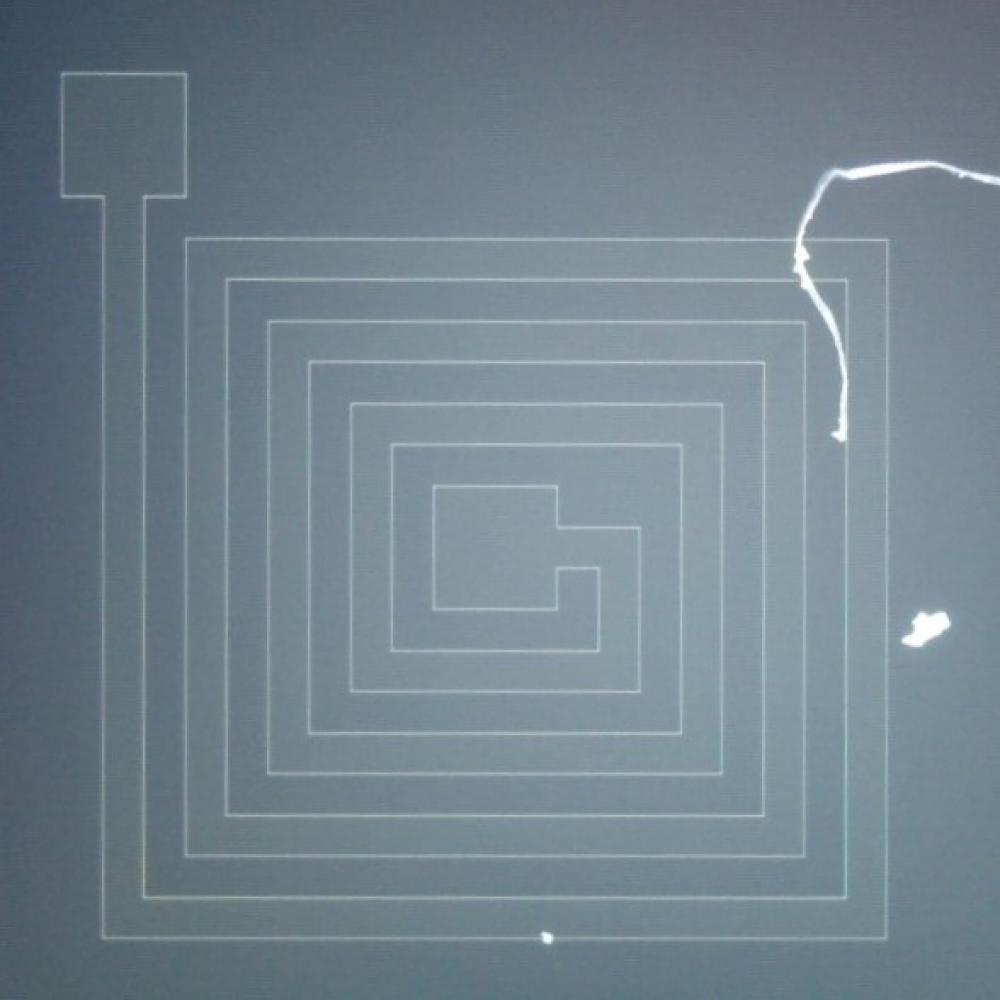Bdot: (912, 611, 946, 647)
curve: (798, 284, 835, 319), (784, 243, 820, 277), (826, 409, 859, 443), (911, 152, 944, 182), (881, 152, 912, 182), (830, 377, 860, 407), (850, 156, 880, 185), (820, 158, 850, 187), (801, 187, 830, 214), (946, 161, 972, 188), (974, 163, 998, 192), (791, 216, 818, 240), (820, 321, 844, 345), (830, 353, 852, 375)
dot: (541, 932, 553, 944)
